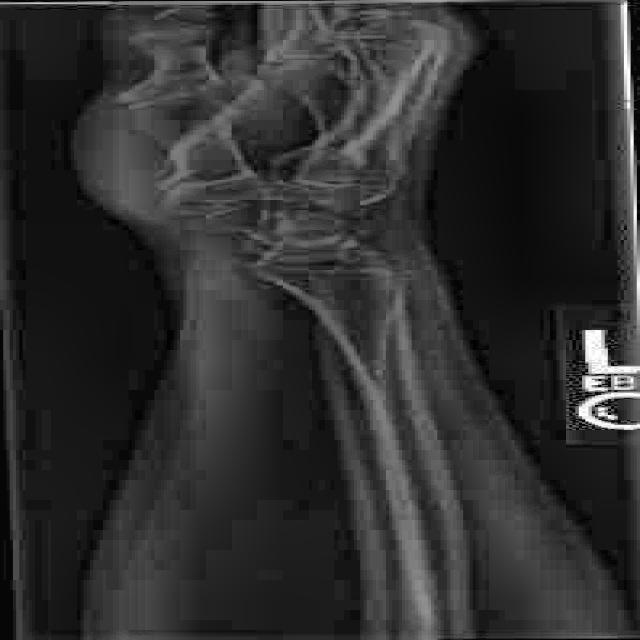fingers positive: (288, 274, 435, 298)
